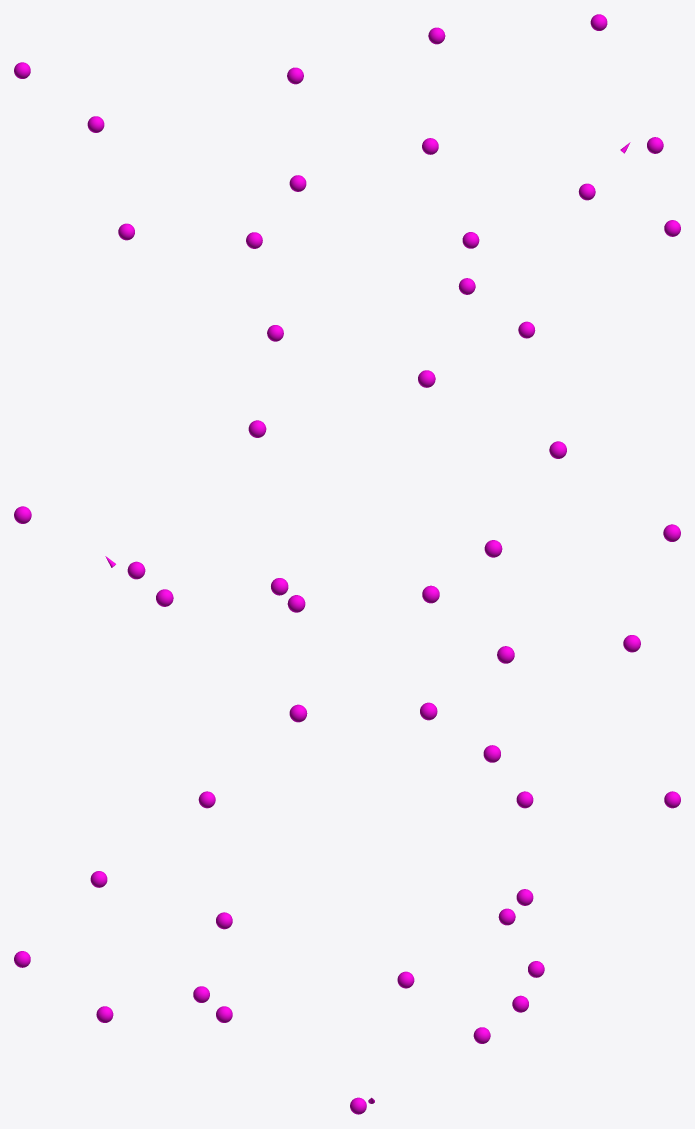
File: main_diaplay_interactives.glb
3 renders of one model, top to bottom at view 1: azimuth 30°, elevation 25°; view 2: azimuth 150°, elevation 25°; view 3: azimuth 270°, elevation 25°, orthographic. The views are drawn at different scales.
Size of the model in its own units: 25.5 by 5.96 by 29.6.
